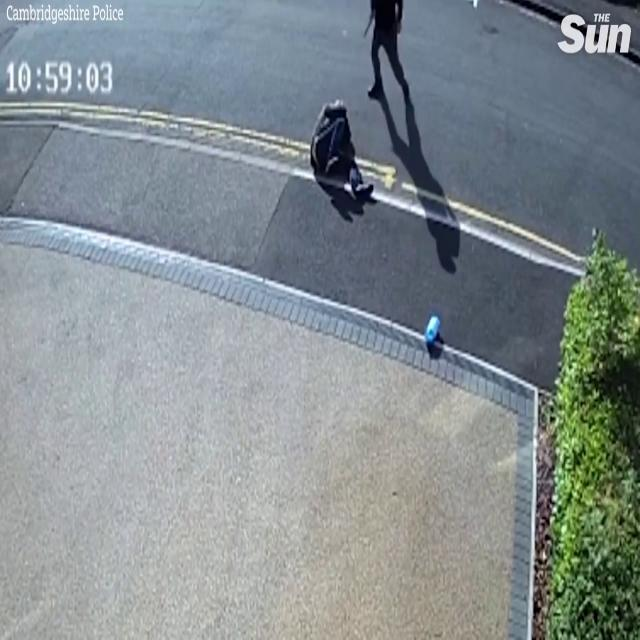Knife_Handle: (362, 12, 375, 38)
